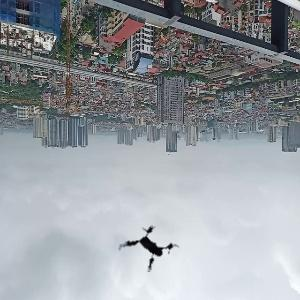drone: (115, 218, 185, 288)
